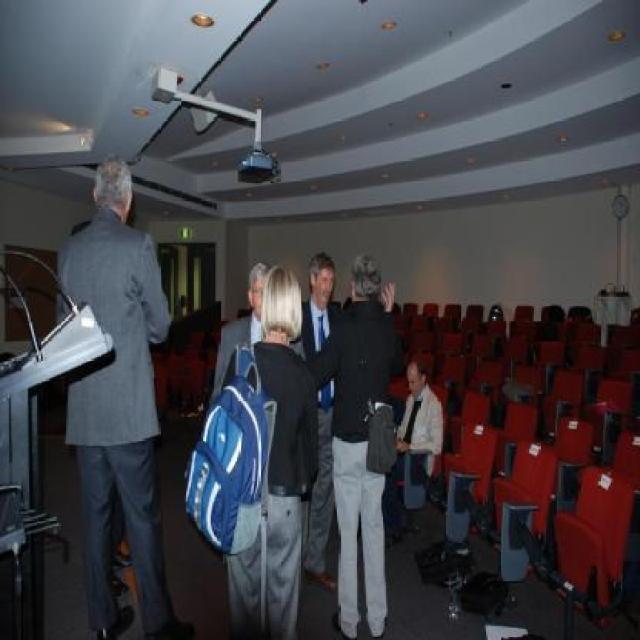backpack: (182, 338, 278, 560), (362, 397, 402, 478)
